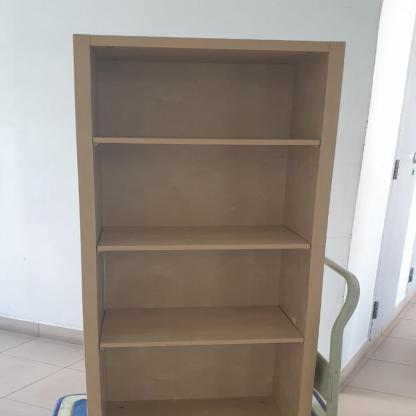lamp: (69, 32, 350, 416)
